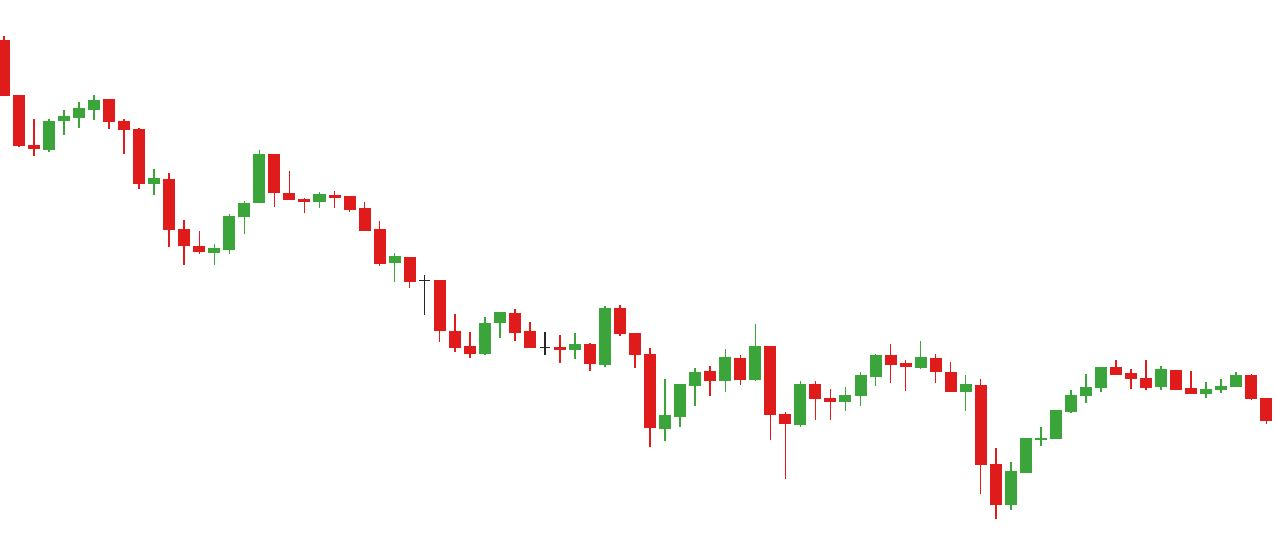buy: (778, 387, 1020, 518)
